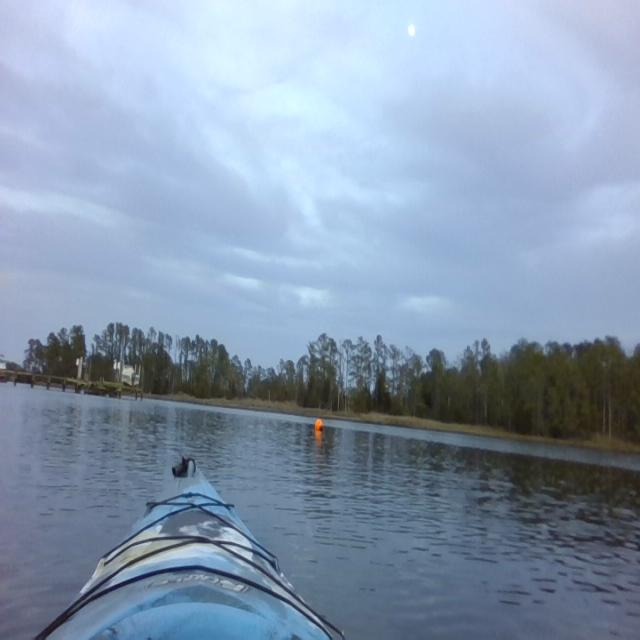Buoy: (313, 416, 325, 434)
